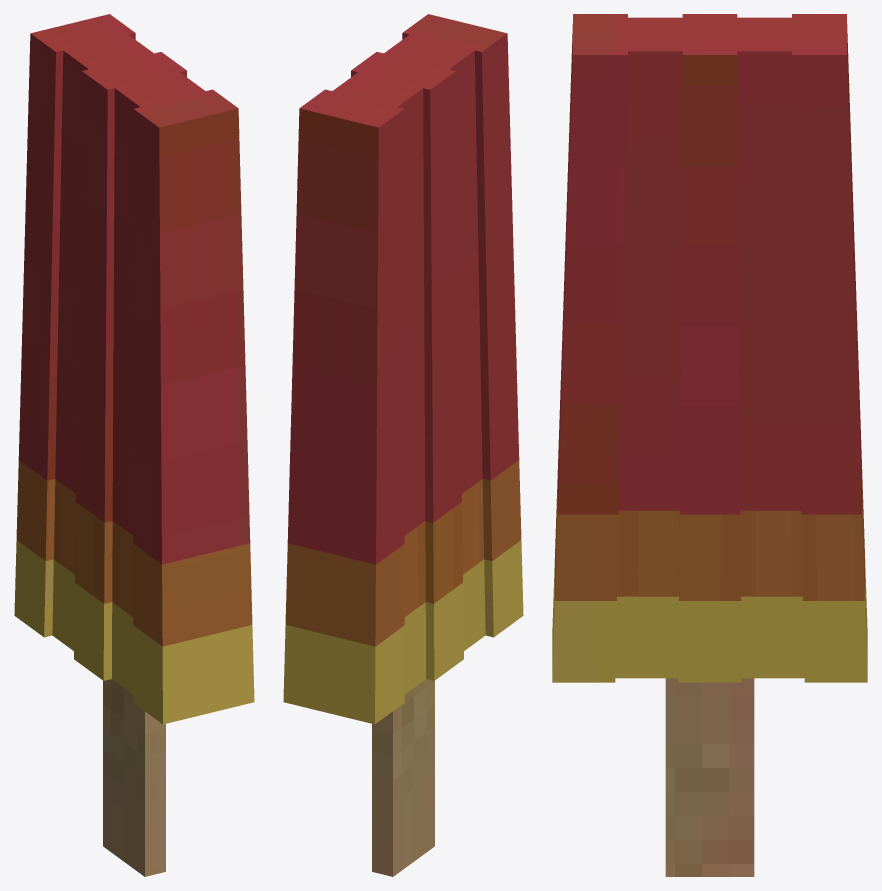
The model's file is pop.glb.
3 renders of one model, left to right at view 1: azimuth 30°, elevation 25°; view 2: azimuth 150°, elevation 25°; view 3: azimuth 270°, elevation 25°, orthographic. The views are drawn at different scales.
Visible parts, largest first — view 1: node-0; view 2: node-0; view 3: node-0.
Boxes of the visible parts, <box> form: node-0: <box>14,14,254,876</box>; node-0: <box>283,14,523,876</box>; node-0: <box>552,14,867,876</box>.
Bounding box in the file's own units: 0.1556 × 1.28 × 0.4376.
Materials: 1 (1 with a texture image).
